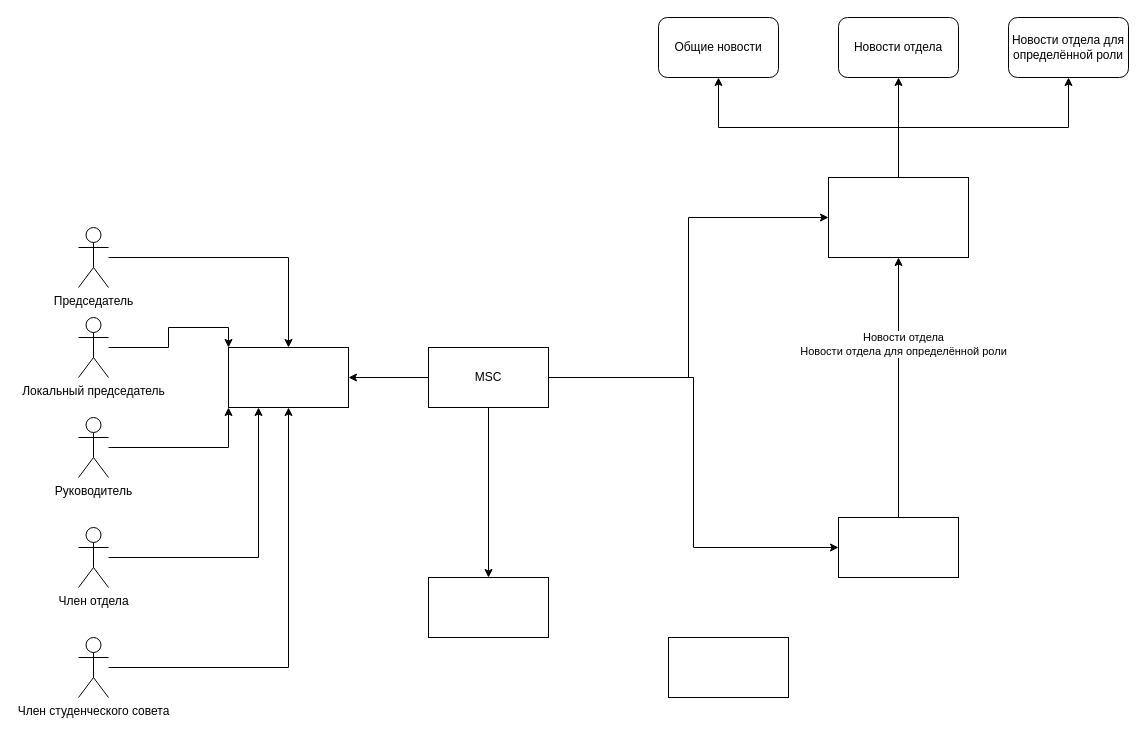
The diagram is 1146 pixels wide and 736 high, and some of its shapes have lost their labels. The centre of each missing label's shape, as x and y in pixels:
"ЛК" goes at point 488,607.
"Новости" goes at point 898,217.
"Отделы" goes at point 898,547.
"Роли" goes at point 288,377.
